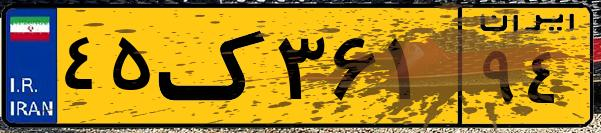1: (385, 28, 445, 110)
3: (270, 28, 330, 110)
4: (57, 26, 110, 100), (525, 38, 570, 115)
5: (110, 28, 158, 98)
6: (330, 28, 385, 110)
9: (475, 38, 525, 113)
ک: (158, 12, 270, 120)
